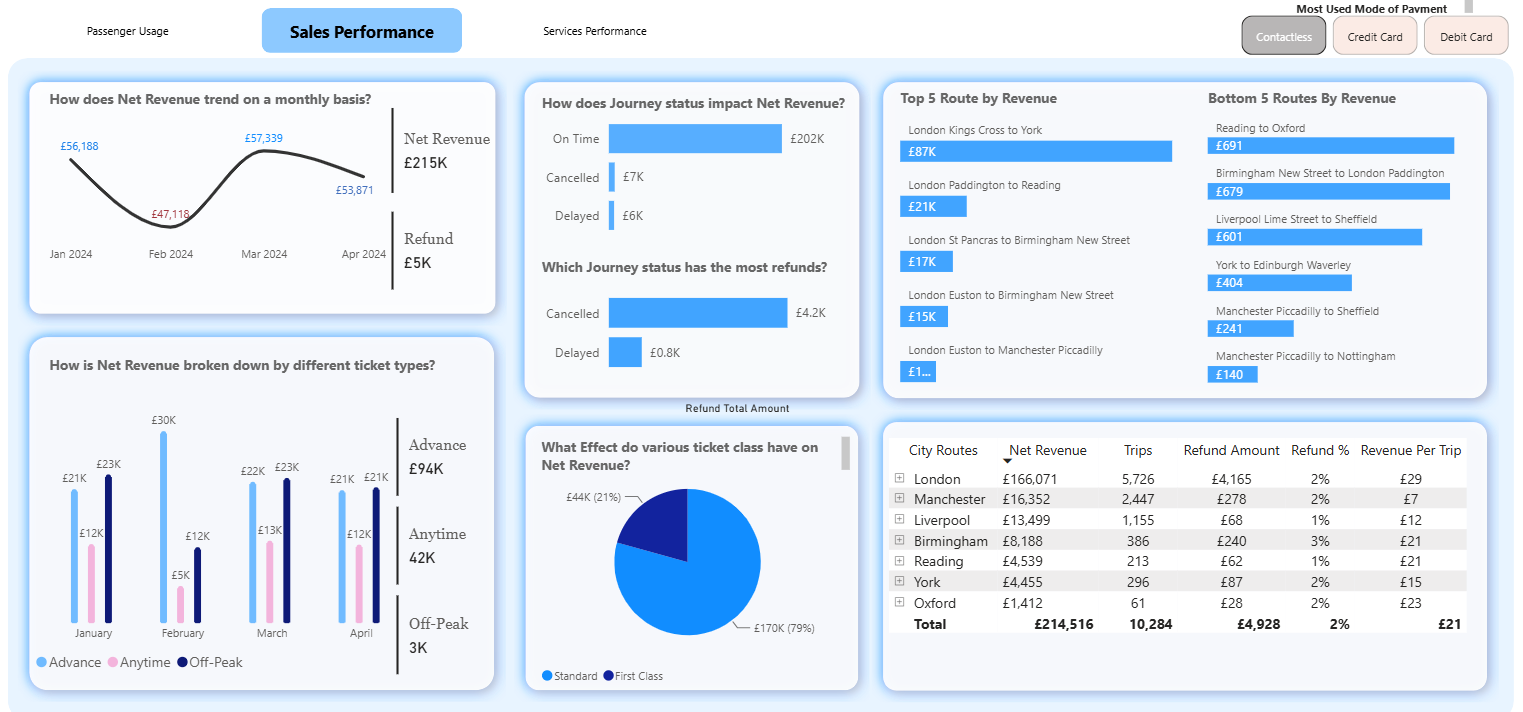

The dashboard page shown, as its layout file describes it:
{"tool":"powerbi","page":{"name":"Page 2","canvas":[1500,720],"ordinal":1},"visuals":[{"type":"shape","box":[22.9,62.7,1453.8,639.4],"z":0},{"type":"shape","box":[856.6,402.6,605.3,281.6],"z":2000},{"type":"shape","box":[511.8,406.6,343.4,277.6],"z":3000},{"type":"shape","box":[510.6,75.3,345.9,327.1],"z":4000},{"type":"barChart","fields":{"Category":["Railway.Journey Status"],"Y":["Measure Table.Net Revenue"]},"box":[532.9,98.7,323.7,151.3],"z":5000},{"type":"barChart","fields":{"Category":["Railway.Journey Status"],"Y":["Measure Table.Refund Total Amount"]},"box":[532.9,247.4,323.7,164.5],"z":6000},{"type":"shape","box":[856.6,75,605.3,327.6],"z":7000},{"type":"shape","box":[32.9,75,472.4,246.1],"z":8000},{"type":"shape","box":[32.9,321.1,471.1,363.2],"z":9000},{"type":"clusteredBarChart","title":"Bottom 5 Routes By Revenue","fields":{"Category":["Railway.Journey"],"Y":["Measure Table.Label Placeholder","Measure Table.Net Revenue"]},"box":[1176.3,92.1,285.5,290.8],"z":10000},{"type":"clusteredBarChart","title":"Top 5 Route by Revenue","fields":{"Category":["Railway.Journey"],"Y":["Measure Table.Label Placeholder","Measure Table.Net Revenue"]},"box":[878.9,92.1,313.2,290.8],"z":11000},{"type":"cardVisual","fields":{"Data":["Measure Table.Off-peakTicket"]},"box":[393.6,577,107.6,86.8],"z":12000},{"type":"cardVisual","fields":{"Data":["Measure Table.Anytime Ticket"]},"box":[393.6,491.4,97.8,85.6],"z":13000},{"type":"cardVisual","fields":{"Data":["Measure Table.Advance Ticket"]},"box":[393.6,405.8,121.1,85.6],"z":14000},{"type":"cardVisual","fields":{"Data":["Measure Table.Refund Total Amount"]},"box":[388.2,206.6,85.5,85.5],"z":15000},{"type":"cardVisual","fields":{"Data":["Measure Table.Net Revenue"]},"box":[388.2,106.6,119.7,92.1],"z":16000},{"type":"lineChart","fields":{"Category":["Railway.Date of Journey.Variation.Date Hierarchy.Year","Railway.Date of Journey.Variation.Date Hierarchy.Month"],"Y":["Measure Table.Net Revenue"]},"box":[57.9,119.7,335.5,150],"z":17000},{"type":"pivotTable","fields":{"Rows":["Railway.City Routes","Railway.Journey"],"Values":["Measure Table.Net Revenue","Measure Table.Journey","Measure Table.Refund Total Amount","Measure Table.Refund %","Measure Table.Revenue Per Customer"]},"box":[868.4,425,581.6,236.8],"z":18000},{"type":"pieChart","fields":{"Category":["Railway.Ticket Class"],"Y":["Measure Table.Net Revenue"]},"box":[533.2,448.8,292,228],"z":19000},{"type":"clusteredColumnChart","title":"Net Revenue by Ticket Type","fields":{"Category":["Railway.Date of Journey.Variation.Date Hierarchy.Month"],"Series":["Railway.Ticket Type"],"Y":["Measure Table.Net Revenue"]},"box":[44.6,382.4,381.2,282.3],"z":20000},{"type":"advancedSlicerVisual","fields":{"Values":["Railway.Payment Method"]},"box":[1209,17,269,48],"z":21000},{"type":"actionButton","box":[494,14,192.4,43.5],"z":22000},{"type":"actionButton","box":[268,14,193.8,43.5],"z":23000},{"type":"actionButton","box":[42,14,193,43],"z":24000},{"type":"textbox","box":[1245,0,196.6,24],"z":25000},{"type":"textbox","title":"What proportion of the passengers are Railcard users versus non-users?","box":[57.9,345,411.4,45.8],"z":26000},{"type":"textbox","title":"What proportion of the passengers are Railcard users versus non-users?","box":[533.2,423.5,307.6,43.4],"z":27000},{"type":"textbox","title":"What proportion of the passengers are Railcard users versus non-users?","box":[57.9,88.1,411.4,45.8],"z":28000},{"type":"textbox","title":"What proportion of the passengers are Railcard users versus non-users?","box":[533.2,91.7,411.4,45.8],"z":29000},{"type":"textbox","title":"What proportion of the passengers are Railcard users versus non-users?","box":[533.2,249.7,411.4,45.8],"z":30000}]}

Visuals, with their boxes in screenshot pixels (x1, y1, x2, y2), scaled from the page's 1500x720 canvas onto the 1523x712 screenshot:
shape: (23,62,1499,694)
shape: (870,398,1484,677)
shape: (520,402,868,677)
shape: (518,74,870,398)
barChart - Railway.Journey Status x Measure Table.Net Revenue: (541,98,870,247)
barChart - Railway.Journey Status x Measure Table.Refund Total Amount: (541,245,870,407)
shape: (870,74,1484,398)
shape: (33,74,513,318)
shape: (33,318,512,677)
"Bottom 5 Routes By Revenue" clusteredBarChart: (1194,91,1484,379)
"Top 5 Route by Revenue" clusteredBarChart: (892,91,1210,379)
cardVisual - Measure Table.Off-peakTicket: (400,571,509,656)
cardVisual - Measure Table.Anytime Ticket: (400,486,499,571)
cardVisual - Measure Table.Advance Ticket: (400,401,523,486)
cardVisual - Measure Table.Refund Total Amount: (394,204,481,289)
cardVisual - Measure Table.Net Revenue: (394,105,516,196)
lineChart - Railway.Date of Journey.Variation.Date Hierarchy.Year x Railway.Date of Journey.Variation.Date Hierarchy.Month: (59,118,399,267)
pivotTable - Railway.City Routes x Railway.Journey: (882,420,1472,654)
pieChart - Railway.Ticket Class x Measure Table.Net Revenue: (541,444,838,669)
"Net Revenue by Ticket Type" clusteredColumnChart: (45,378,432,657)
advancedSlicerVisual - Railway.Payment Method: (1228,17,1501,64)
actionButton: (502,14,697,57)
actionButton: (272,14,469,57)
actionButton: (43,14,239,56)
textbox: (1264,0,1464,24)
"What proportion of the passengers are Railcard users versus non-users?" textbox: (59,341,476,386)
"What proportion of the passengers are Railcard users versus non-users?" textbox: (541,419,854,462)
"What proportion of the passengers are Railcard users versus non-users?" textbox: (59,87,476,132)
"What proportion of the passengers are Railcard users versus non-users?" textbox: (541,91,959,136)
"What proportion of the passengers are Railcard users versus non-users?" textbox: (541,247,959,292)
